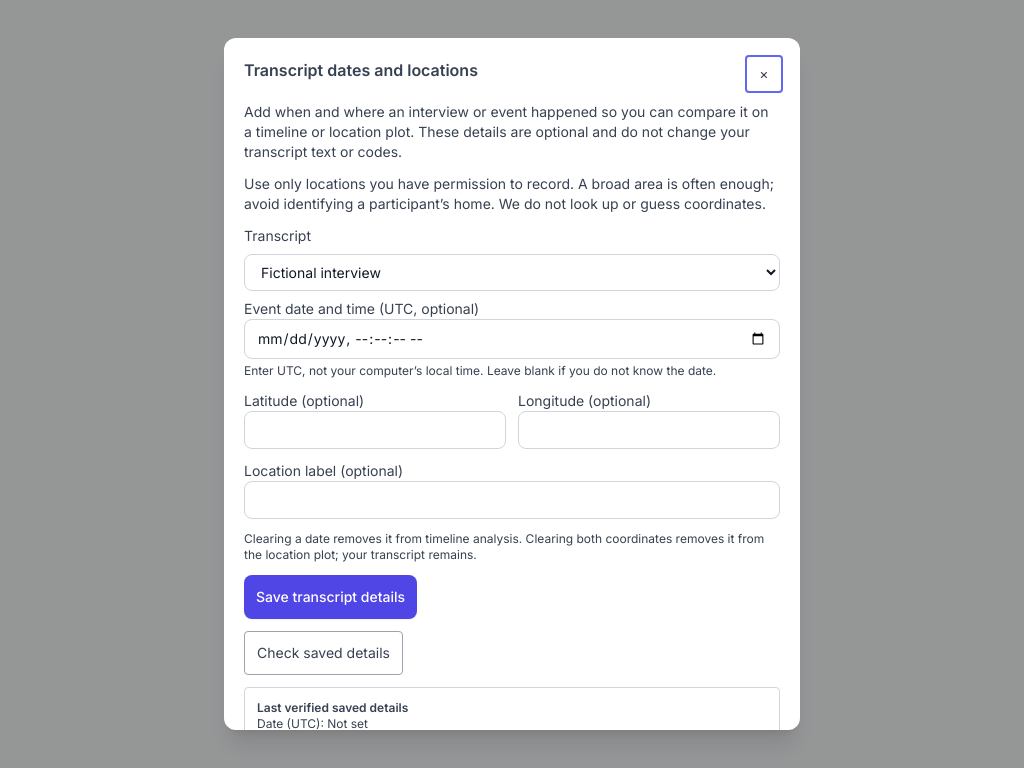
Scenario: transcript metadata setup and uncertain-save recovery › does not submit an incomplete coordinate pair
Expected: the button "Save transcript details" is enabled, [244, 575, 417, 619]
In the field labelled "Latitude (optional)": (375, 430) [244, 411, 506, 449], type "52"
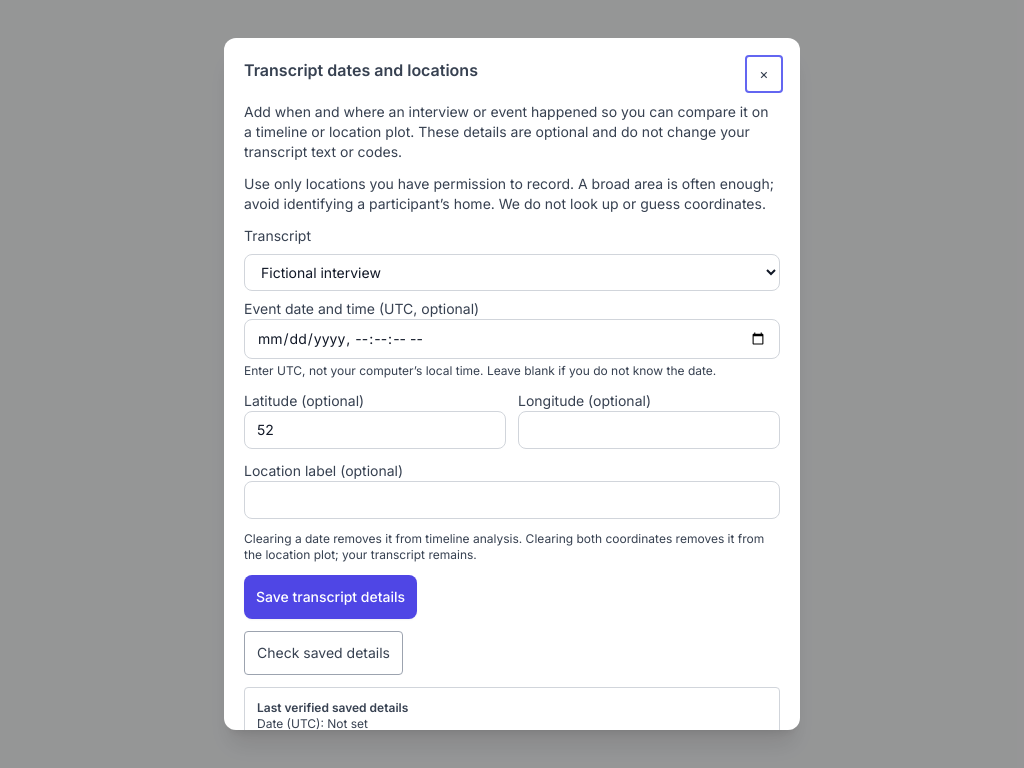
Click the button "Save transcript details": (331, 597) [244, 575, 417, 619]
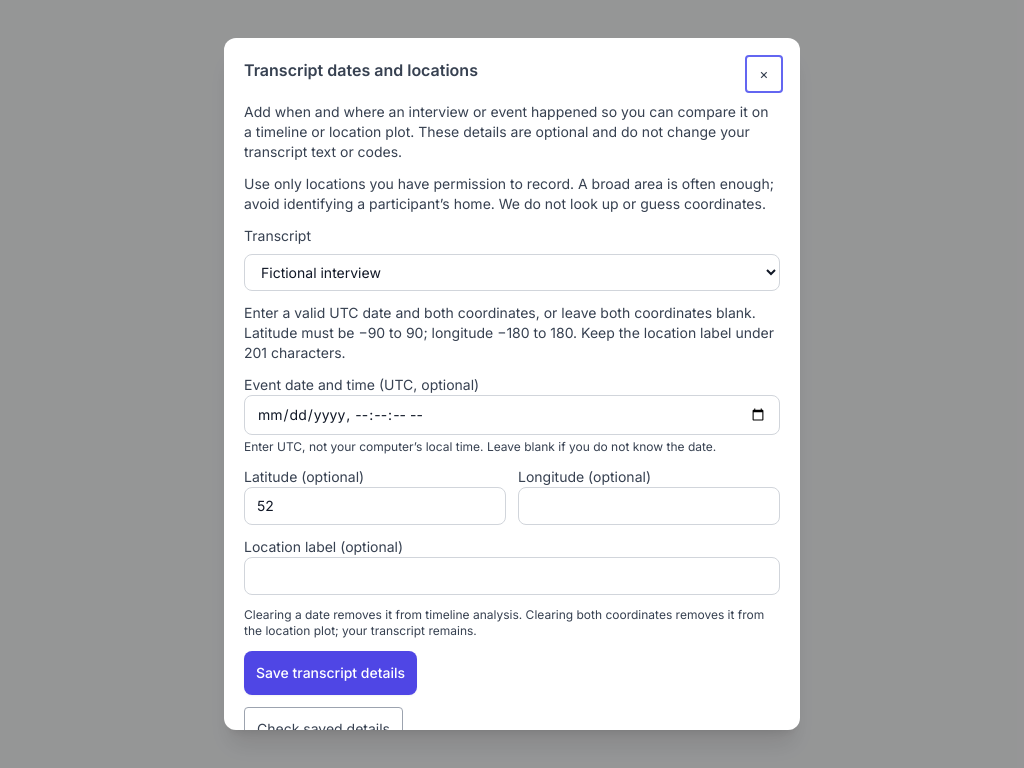
Now the message shows "both coordinates", box [244, 304, 774, 361]
